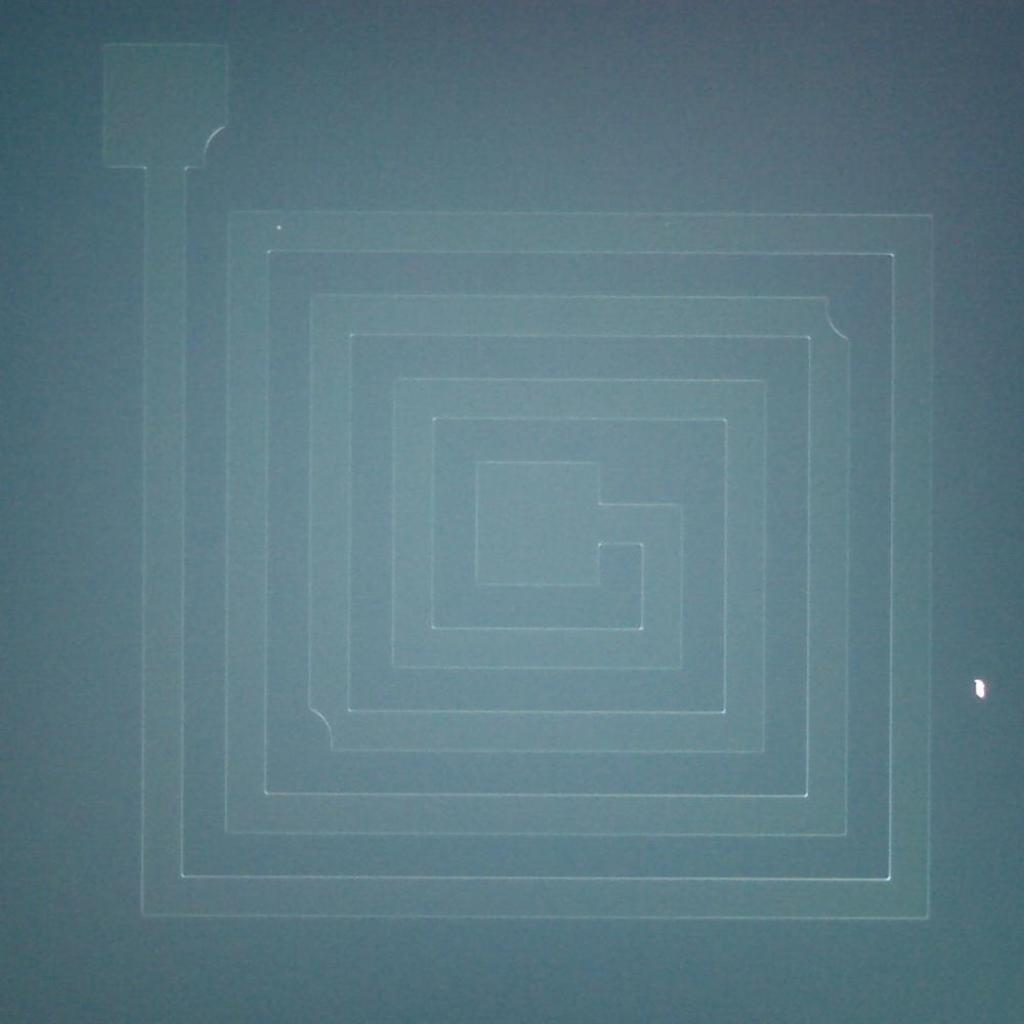Bdot: (970, 679, 989, 698)
dot: (276, 226, 280, 230)
